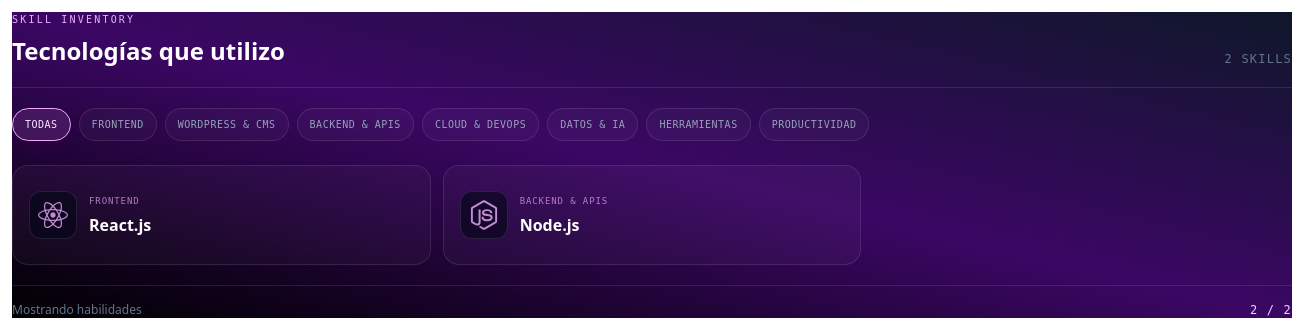
Skills inventory › filters cards without requesting the API again
The width and height of the screenshot is (1304, 335).
Click the tab "Frontend". click: x=118, y=124
box: [79,108,157,141]
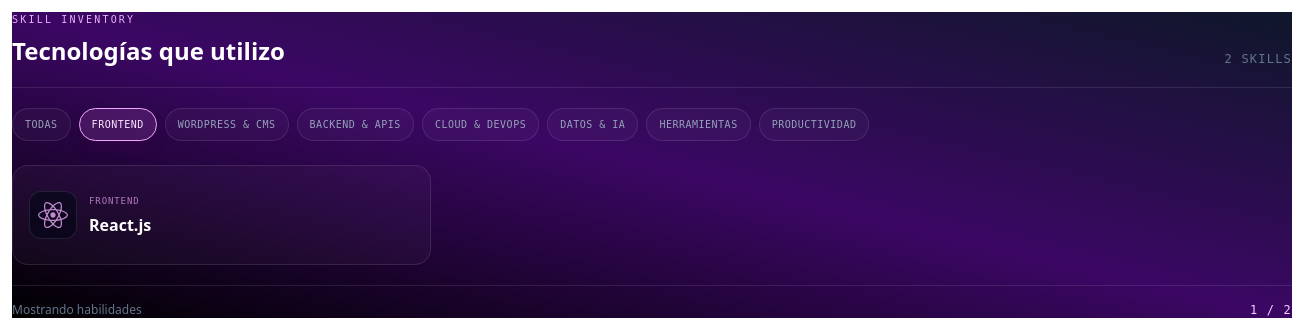
Expected: the heading "React.js" is shown, [89,214,151,236]
Expected: the heading "Node.js" is gone
Expected: the text "1 / 2" is shown, [1250,302,1292,318]
